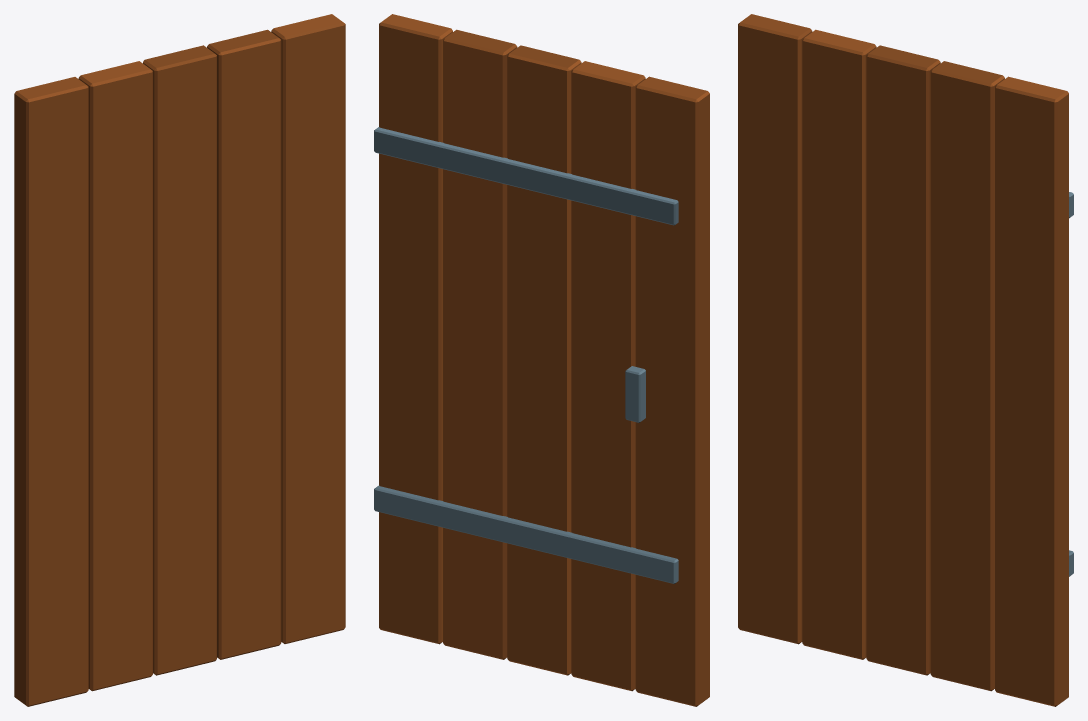
The model's file is A23_Wood_Door.fbx.
The picture shows the model from 3 angles, left to right: view 1: azimuth 30°, elevation 25°; view 2: azimuth 150°, elevation 25°; view 3: azimuth 330°, elevation 25°; orthographic projection.
Parts seen in each view (by area): view 1: A23_Wood_Door; view 2: A23_Wood_Door; view 3: A23_Wood_Door.
Boxes of the visible parts, bbox=[...] form: A23_Wood_Door: bbox=[14, 14, 345, 706]; A23_Wood_Door: bbox=[374, 14, 709, 706]; A23_Wood_Door: bbox=[738, 14, 1073, 706].
Bounding box in the file's own units: 0.938 × 1.7 × 0.117.
2 materials, 2 textured.
